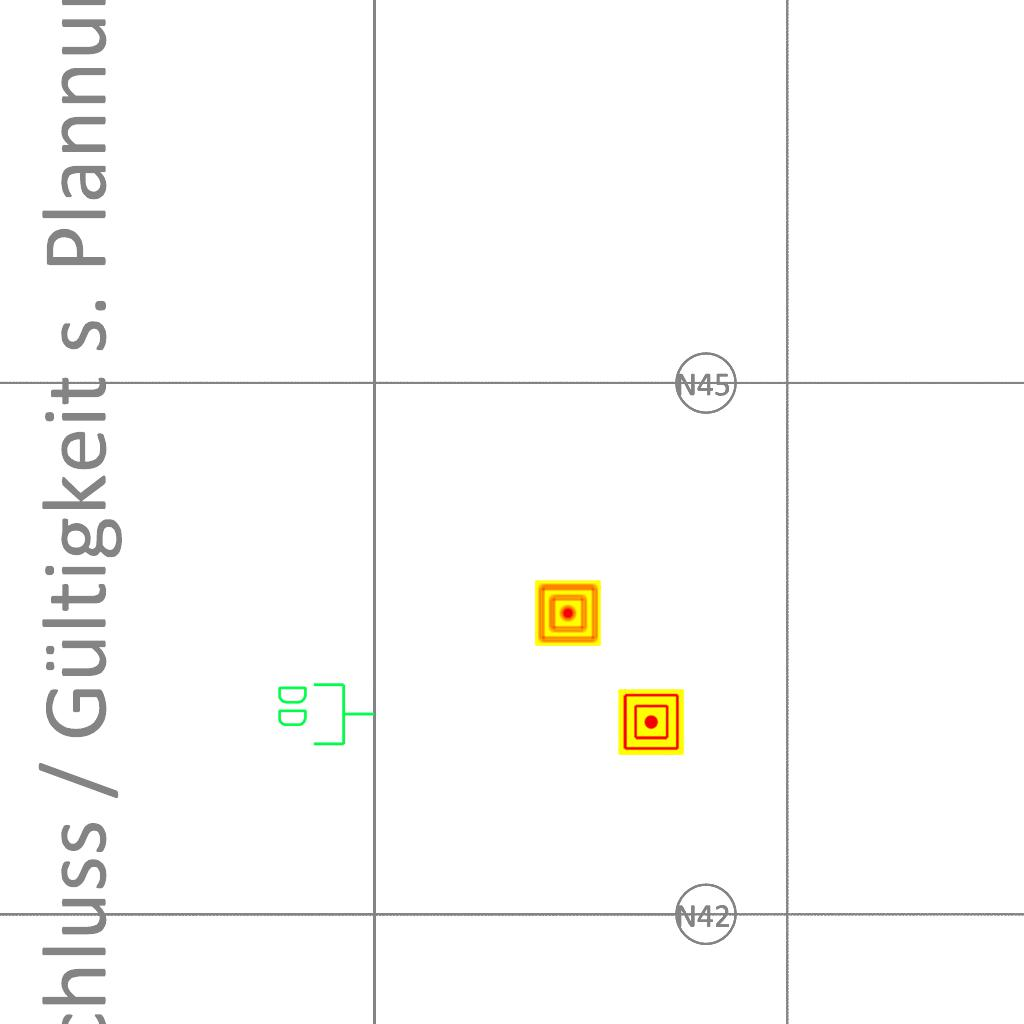Datenanschluss_zweifach: (274, 679, 377, 748)
NAM-Nichtautomatischer_Melder: (618, 689, 684, 755), (535, 580, 601, 646)
